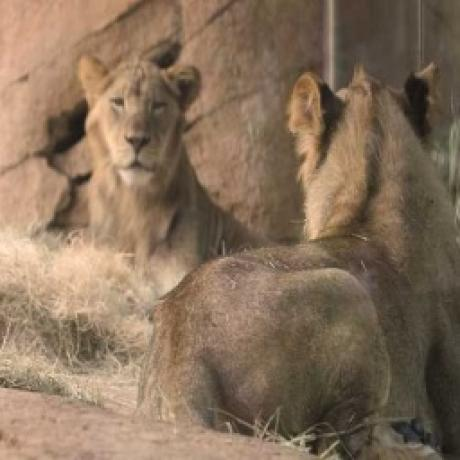Lion: (172, 50, 460, 448), (92, 52, 235, 263)
